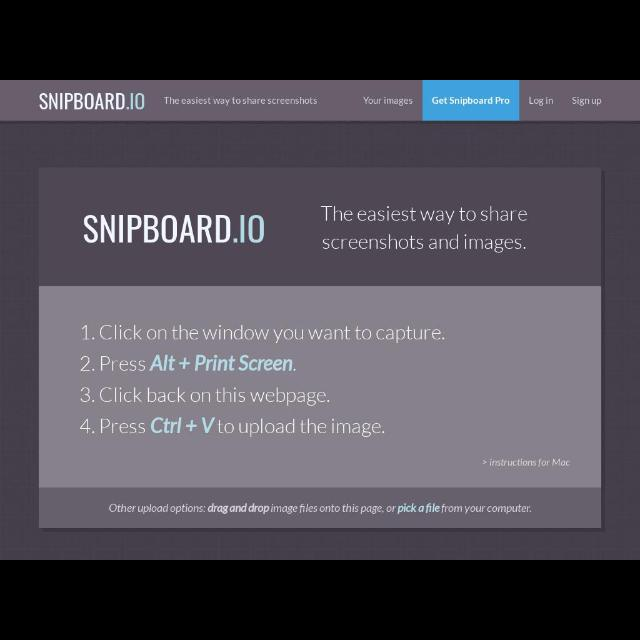icon: (482, 460, 488, 466)
image: (84, 214, 266, 246), (39, 93, 144, 111)
multitab: (356, 80, 614, 120)
text: (319, 204, 529, 253), (81, 324, 445, 344), (78, 418, 386, 438), (109, 503, 533, 515), (80, 387, 330, 407), (80, 355, 294, 373), (163, 95, 317, 106), (489, 458, 571, 468), (432, 97, 511, 107), (362, 95, 413, 106), (572, 96, 602, 108), (528, 95, 554, 106)
